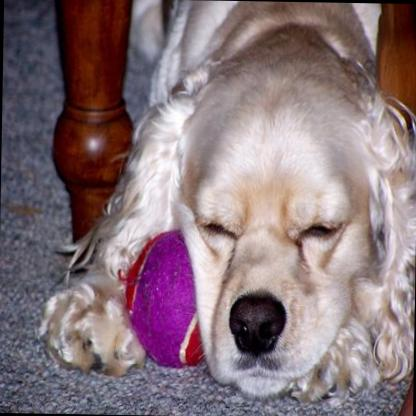cocker_spaniel: (35, 0, 416, 398)
